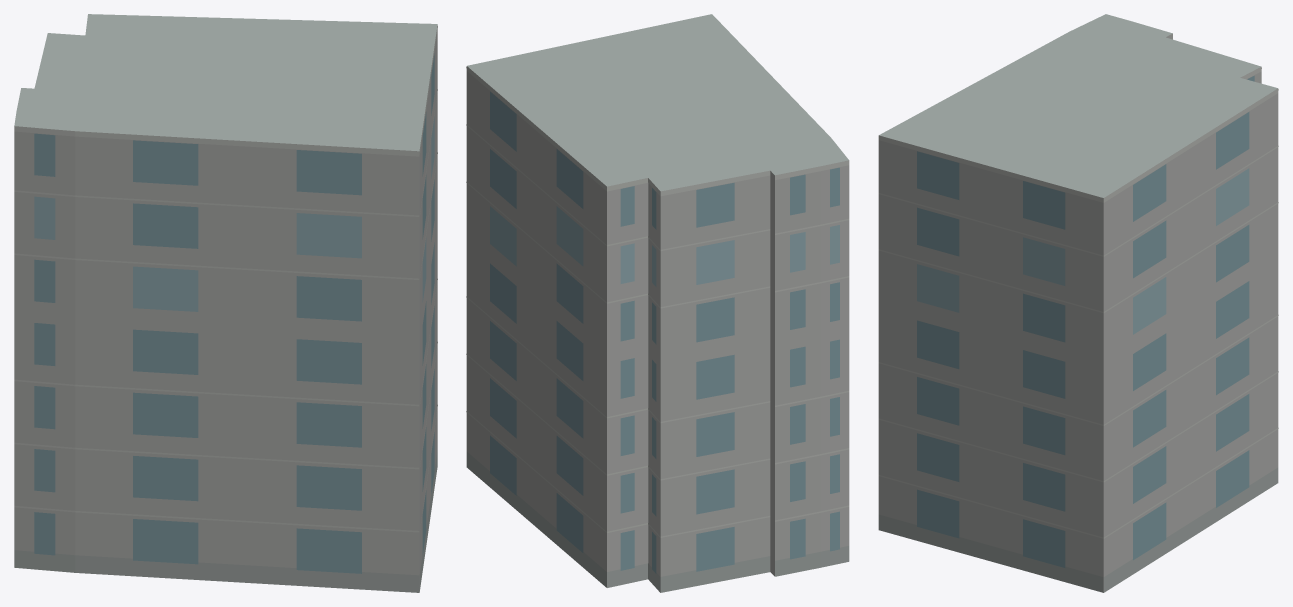
File: survey-upis-32731281.glb
3 renders of one model, left to right at view 1: azimuth 30°, elevation 25°; view 2: azimuth 150°, elevation 25°; view 3: azimuth 270°, elevation 25°, orthographic. The views are drawn at different scales.
Parts seen in each view (by area): view 1: survey-upis-32731281.tmp; view 2: survey-upis-32731281.tmp; view 3: survey-upis-32731281.tmp.
Boxes of the visible parts, bbox=[...] form: survey-upis-32731281.tmp: bbox=[14, 14, 437, 592]; survey-upis-32731281.tmp: bbox=[466, 14, 849, 592]; survey-upis-32731281.tmp: bbox=[878, 14, 1278, 592].
Size of the model in its own units: 19.98 by 19.95 by 18.32.
